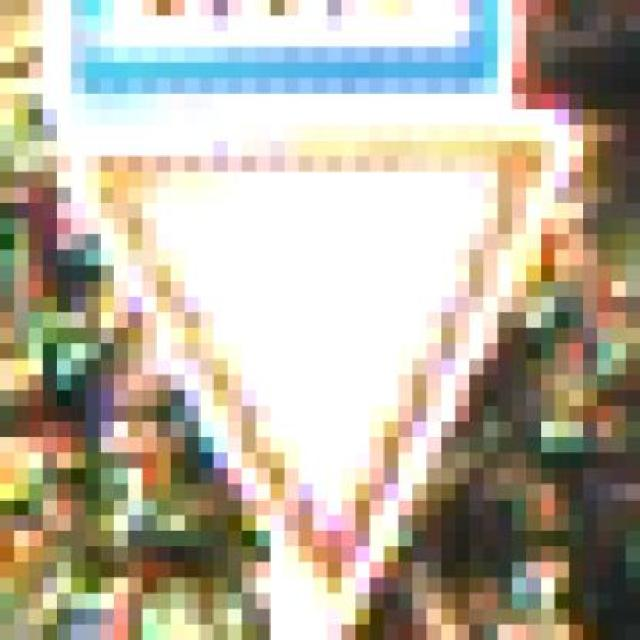Give Way: (41, 101, 568, 617)
